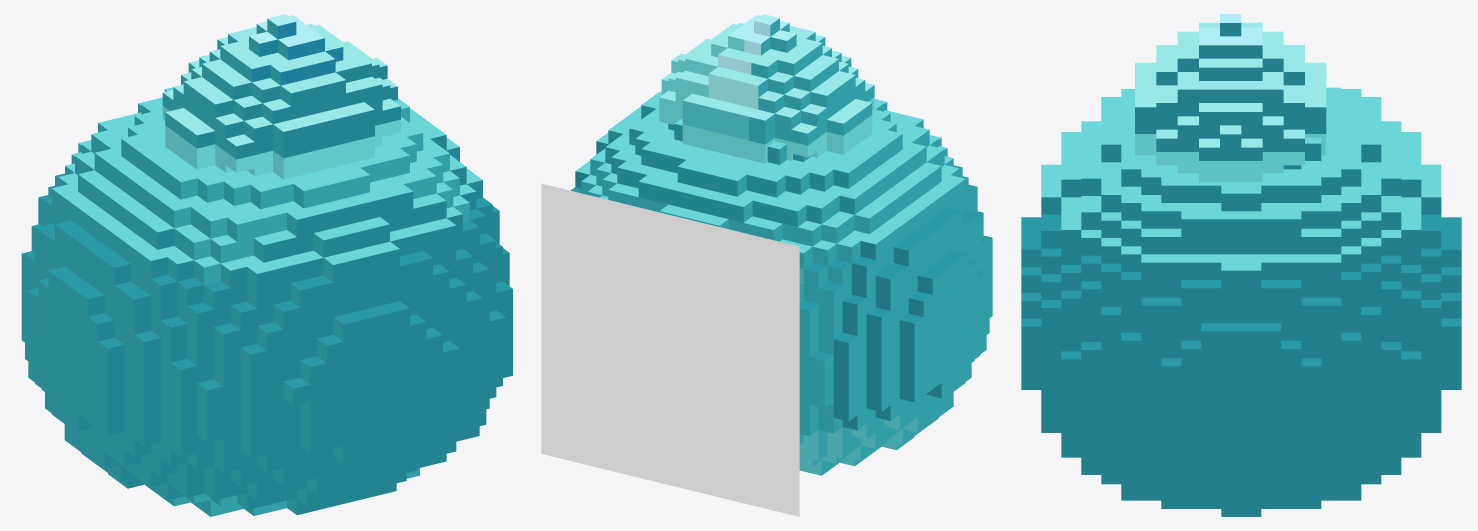
The model's file is slime_hydro.glb.
3 views of the same model, side by side, from view 1: azimuth 30°, elevation 25°; view 2: azimuth 150°, elevation 25°; view 3: azimuth 270°, elevation 25° (orthographic). The views are drawn at different scales.
Parts seen in each view (by area): view 1: Shell, HydroDroplet; view 2: Shell, Face, HydroDroplet; view 3: Shell, HydroDroplet.
Part boxes in pixels (x1,y1,x2,y2): Shell: (21,87,512,516); HydroDroplet: (162,14,400,179); Shell: (570,91,992,475); Face: (541,183,799,516); HydroDroplet: (659,14,874,163); Shell: (1021,87,1461,516); HydroDroplet: (1135,14,1326,182).
Bounding box in the file's own units: 1.2 × 1.23 × 1.15.
